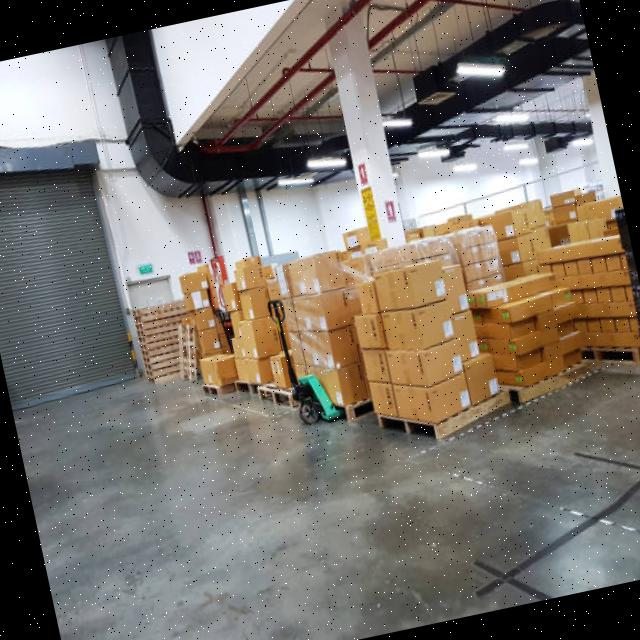Wooden-Pallets: (373, 386, 513, 442), (255, 375, 295, 410), (196, 382, 223, 399)
